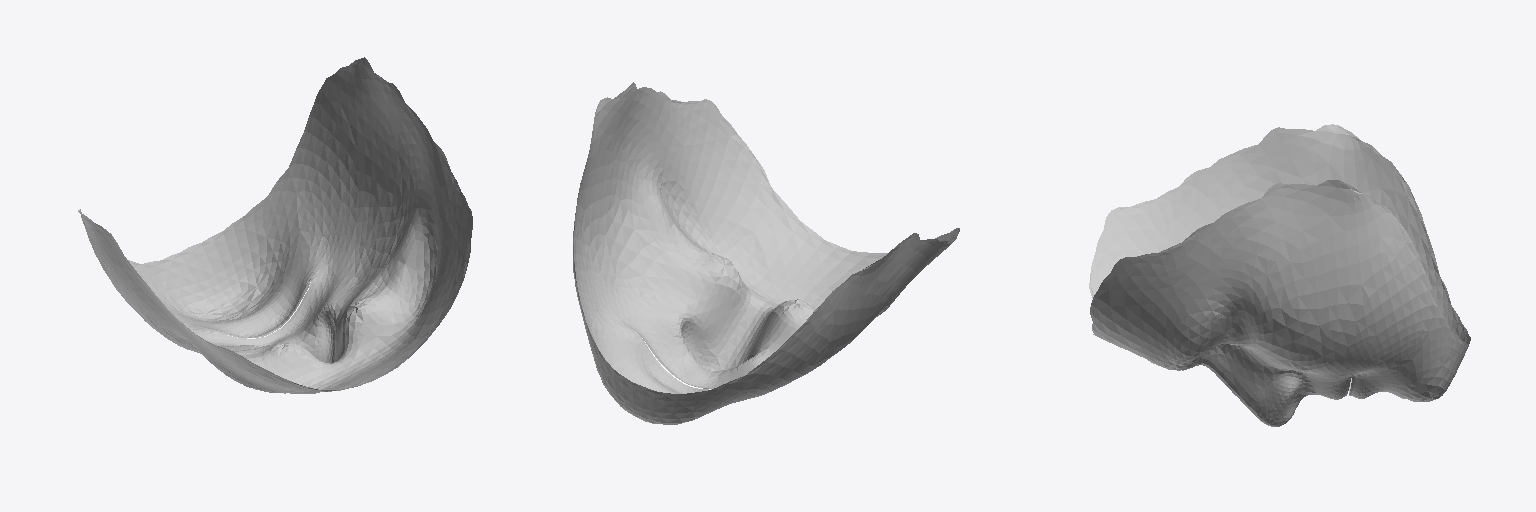
The model's file is face_gab_sfm1.obj.
3 views of the same model, side by side, from view 1: azimuth 30°, elevation 25°; view 2: azimuth 150°, elevation 25°; view 3: azimuth 270°, elevation 25° (orthographic).
Bounding box in the file's own units: 161 × 149 × 180.